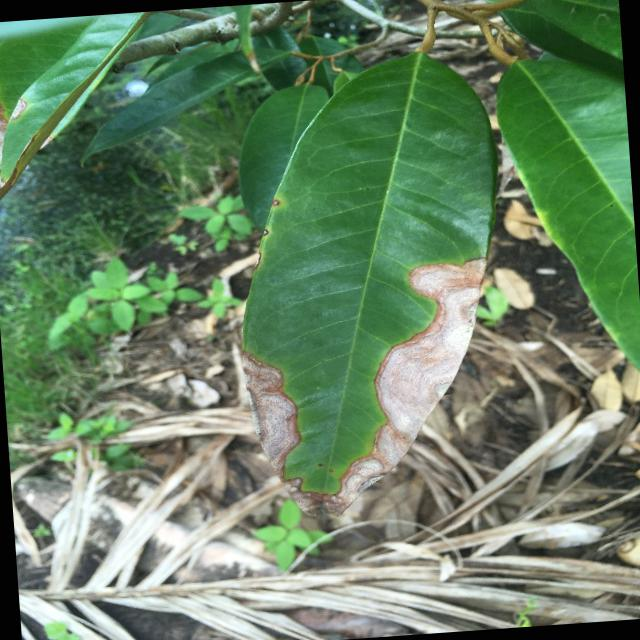Leaf Blight: (208, 38, 528, 549)
